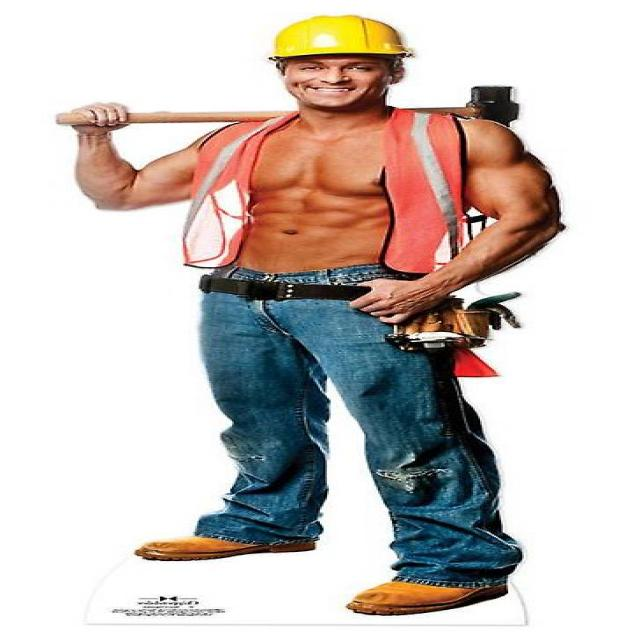Reflective-Jacket: (172, 104, 528, 278)
Safety-Helmet: (258, 10, 422, 64)
